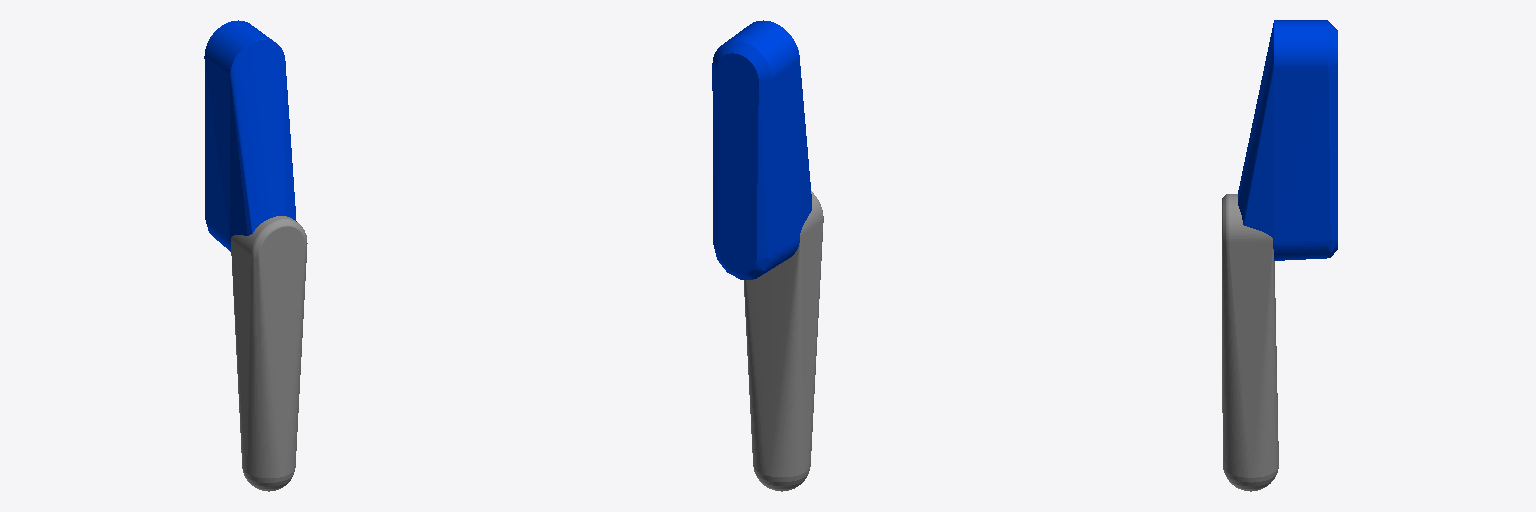
The robot description file, URDF, robot "awesome_leg":
<?xml version="1.0" ?>
<!-- =================================================================================== -->
<!-- |    This document was autogenerated by xacro from [local-path]/andreap_ws/src/awesome_leg/description/urdf/awesome_leg_standalone.urdf.xacro | -->
<!-- |    EDITING THIS FILE BY HAND IS NOT RECOMMENDED                                 | -->
<!-- =================================================================================== -->
<!-- 
    Leg base URDF (no external links). Variant of the URDF adapted for use with Pinocchio and for performing inertial parameter identification 
-->
<robot name="awesome_leg">
  <!--<xacro:property name="sliding_guide_dyn_friction" value="50.0" />-->
  <!-- color -->
  <material name="darkblue">
    <color rgba="0.0 0.3 0.9 1"/>
  </material>
  <material name="dark">
    <color rgba="0.6 0.6 0.6 1"/>
  </material>
  <material name="sky_blue">
    <color rgba="0.13 0.44 0.70 1"/>
  </material>
  <material name="grey">
    <color rgba=" 0.6 0.6 0.6 1"/>
  </material>
  <material name="black">
    <color rgba="0.4 0.4 0.4 1"/>
  </material>
  <material name="brown">
    <color rgba="0.59 0.29 0.0 1"/>
  </material>
  <!--<xacro:property name="sliding_guide_dyn_friction" value="50.0" />-->
  <!-- color -->
  <material name="darkblue">
    <color rgba="0.0 0.3 0.9 1"/>
  </material>
  <material name="dark">
    <color rgba="0.6 0.6 0.6 1"/>
  </material>
  <material name="sky_blue">
    <color rgba="0.13 0.44 0.70 1"/>
  </material>
  <material name="grey">
    <color rgba=" 0.6 0.6 0.6 1"/>
  </material>
  <material name="black">
    <color rgba="0.4 0.4 0.4 1"/>
  </material>
  <material name="brown">
    <color rgba="0.59 0.29 0.0 1"/>
  </material>
  <!-- xbot2 joint device driver-->
  <gazebo>
    <plugin filename="libxbot2_gz_joint_server.so" name="xbot2_gz_joint_server">
      <pid>
        <gain d="0" name="null_mode" p="0"/>
        <gain d="5" name="small_mot" p="250"/>
        <gain d="10" name="medium_mot" p="1000"/>
        <gain d="10" name="big_mot" p="3000"/>
        <gain name="test_rig2HIP" profile="null_mode"/>
        <gain name="hip_actuation" profile="medium_mot"/>
        <gain name="knee_actuation" profile="medium_mot"/>
      </pid>
    </plugin>
  </gazebo>
  <gazebo>
    <plugin filename="libxbot2_gz_ft_server.so" name="xbot2_ft_driver"/>
  </gazebo>
  <gazebo>
    <plugin filename="libxbot2_gz_link_state_sensor.so" name="xbot2_link_state_sensor">
      <links>
        <link name="base_link"/>
      </links>
    </plugin>
  </gazebo>
  <!--Gazebo-specific tags-->
  <gazebo reference="femur1">
    <material>Gazebo/SkyBlue  </material>
  </gazebo>
  <gazebo reference="shin1">
    <material>Gazebo/Grey  </material>
  </gazebo>
  <gazebo reference="shin1">
    <collision>
      <max_contacts> 20 </max_contacts>
      <surface>
        <friction>
          <ode>
            <mu>1</mu>
            <mu2>1</mu2>
          </ode>
          <bullet>
            <friction>1.0</friction>
            <friction2>1.0</friction2>
          </bullet>
        </friction>
        <!-- <contact>
                        <ode>
                            <kp>2100000</kp>
                            <kd>1</kd>
                            <max_vel>100</max_vel>
                        </ode>
                        <bullet>
                            <soft_cfm>0.007</soft_cfm>
                            <soft_erp>0.25</soft_erp>
                            <kp>1000000</kp>
                            <kd>5</kd>
                        </bullet>
                    </contact> -->
      </surface>
    </collision>
  </gazebo>
  <gazebo reference="tip1">
    <collision>
      <max_contacts> 1 </max_contacts>
      <surface>
        <friction>
          <ode>
            <mu>1</mu>
            <mu2>1</mu2>
          </ode>
          <bullet>
            <friction>1.0</friction>
            <friction2>1.0</friction2>
          </bullet>
        </friction>
        <contact>
          <ode>
            <kp>1000000000000</kp>
            <kd>1</kd>
            <!-- <max_vel>100</max_vel> -->
          </ode>
          <!-- <bullet>
                            <soft_cfm>0.007</soft_cfm>
                            <soft_erp>0.25</soft_erp>
                            <kp>1000000</kp>
                            <kd>5</kd>
                        </bullet> -->
        </contact>
      </surface>
    </collision>
  </gazebo>
  <!-- <xacro:if value="${ dump_video_frames== True}">

            <gazebo reference="camera">
                <sensor name="my_camera" type="camera">
                    <camera>
                        <save enabled="true">
                            <path "$(find awesome_leg)/description/urdf/utils.urdf.xacro" >
                        </save>
                        <horizontal_fov>1</horizontal_fov>
                        <image>
                        <width>1920</width>
                        <height>1080</height>
                        </image>
                        <clip>
                        <near>0.1</near>
                        <far>100</far>
                        </clip>
                        <view_controller>orbit</view_controller>
                    </camera>
                    <always_on>1</always_on>
                    <visualize>false</visualize>
                    <update_rate>30</update_rate>
                </sensor>
            </gazebo>

        </xacro:if> -->
  <link name="femur1">
    <inertial>
      <origin rpy="0.0 0.0 0.0" xyz="-1.7807105e-05 -0.034271947 -0.22282064000000001"/>
      <mass value="3.3712777"/>
      <inertia ixx="0.046647423" ixy="-1.269764e-05" ixz="-3.2745809999999995e-05" iyy="0.043720135" iyz="-0.063299091" izz="0.07579481299999999"/>
    </inertial>
    <visual>
      <origin rpy="0.0 0.0 0.0" xyz="0.0 0.0 0.0"/>
      <geometry>
        <mesh filename="package://awesome_leg/description/new_meshes/visual/femur.stl" scale="0.1 0.1 0.1"/>
      </geometry>
      <material name="darkblue"/>
    </visual>
    <collision>
      <origin rpy="0.0 0.0 0.0" xyz="0.0 0.0 0.0"/>
      <geometry>
        <mesh filename="package://awesome_leg/description/new_meshes/collision/femur.stl" scale="0.1 0.1 0.1"/>
      </geometry>
    </collision>
  </link>
  <joint name="knee_pitch_1" type="revolute">
    <parent link="femur1"/>
    <child link="shin1"/>
    <origin rpy="0.0 0.0 0.0" xyz="0.0 -0.1182 -0.3"/>
    <axis xyz="0 -1 0"/>
    <limit effort="112" lower="-2.4" upper="2.4" velocity="20.0"/>
  </joint>
  <link name="shin1">
    <inertial>
      <origin rpy="0.0 0.0 0.0" xyz="9.2284672e-07 0.01759883 -0.18730054000000002"/>
      <mass value="1.3106594"/>
      <inertia ixx="0.040133964999999994" ixy="4.6219082e-08" ixz="-3.043232e-07" iyy="0.040269285" iyz="0.0013816329" izz="0.0015274496"/>
    </inertial>
    <visual>
      <origin rpy="0.0 0.0 0.0" xyz="0.0 0.0 0.0"/>
      <geometry>
        <mesh filename="package://awesome_leg/description/new_meshes/visual/shin.stl" scale="0.1 0.1 0.1"/>
      </geometry>
      <material name="grey"/>
    </visual>
    <collision>
      <origin rpy="0.0 0.0 0.0" xyz="0.0 0.0 0.0"/>
      <geometry>
        <mesh filename="package://awesome_leg/description/new_meshes/collision/shin.stl" scale="0.1 0.1 0.1"/>
      </geometry>
    </collision>
  </link>
  <joint name="tip_joint_1" type="fixed">
    <parent link="shin1"/>
    <child link="tip1"/>
    <origin xyz="0.0 0.0233 -0.451"/>
  </joint>
  <link name="tip1"/>
</robot>

--- Facts derived from the render (not from the file) ---
3 views of the same robot in one strip: view 1: azimuth 30°, elevation 25°; view 2: azimuth 150°, elevation 25°; view 3: azimuth 270°, elevation 25° (orthographic).
Model awesome_leg with 3 links and 2 joints (1 revolute, 1 fixed), rooted at femur1, posed every joint at zero.
Visible links, largest first — view 1: shin1, femur1; view 2: femur1, shin1; view 3: femur1, shin1.
Boxes of the visible links, x1,y1,x2,y2 form: shin1: (231,216,307,491); femur1: (204,20,296,251); femur1: (712,20,811,279); shin1: (744,191,823,491); femur1: (1238,20,1337,260); shin1: (1222,194,1278,491).
Size in the robot's own frame: 0.106 by 0.1822 by 0.8055 metres.
2 mesh visuals loaded from 2 distinct referenced files (2 binary STL).
